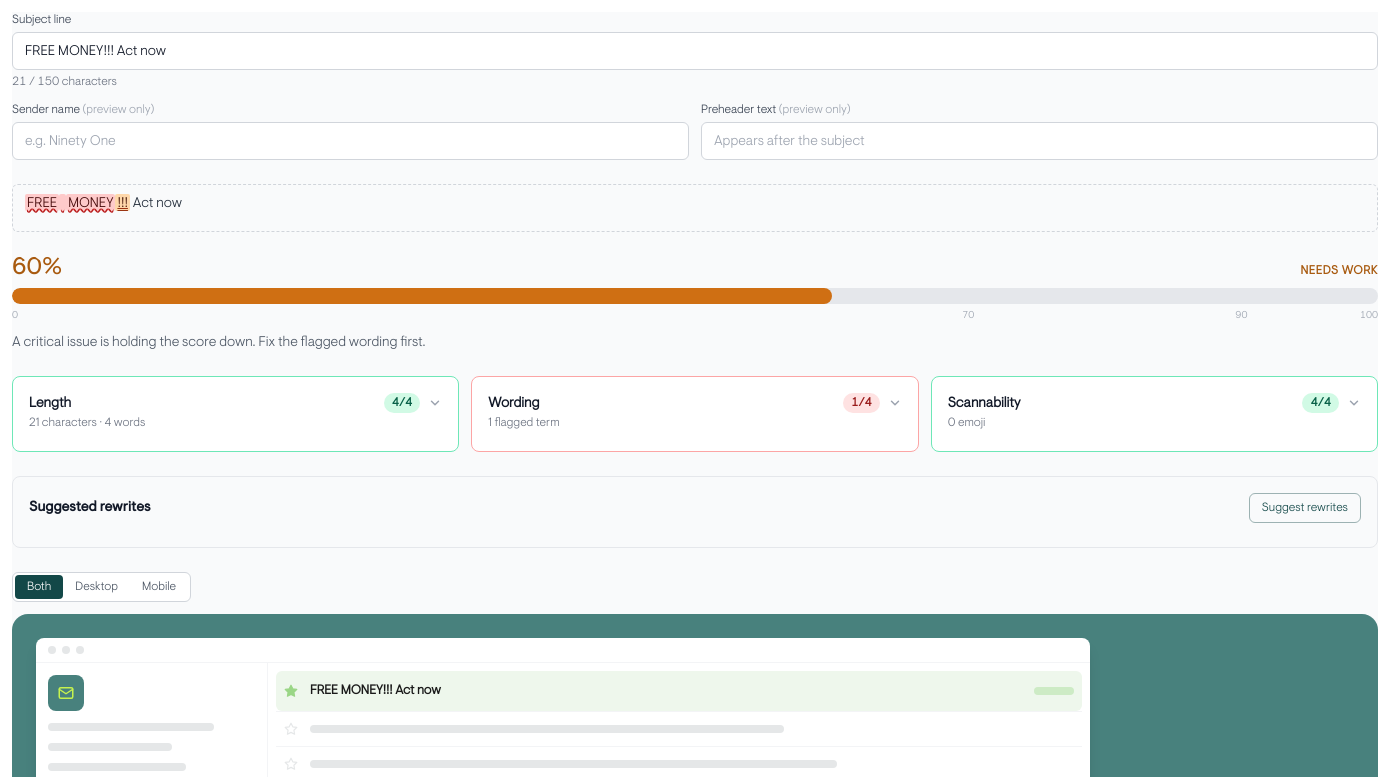
Test case: suggestions on › reports a failing provider and can be retried
Click the button "Suggest rewrites": (1305, 508) [1249,493,1361,523]
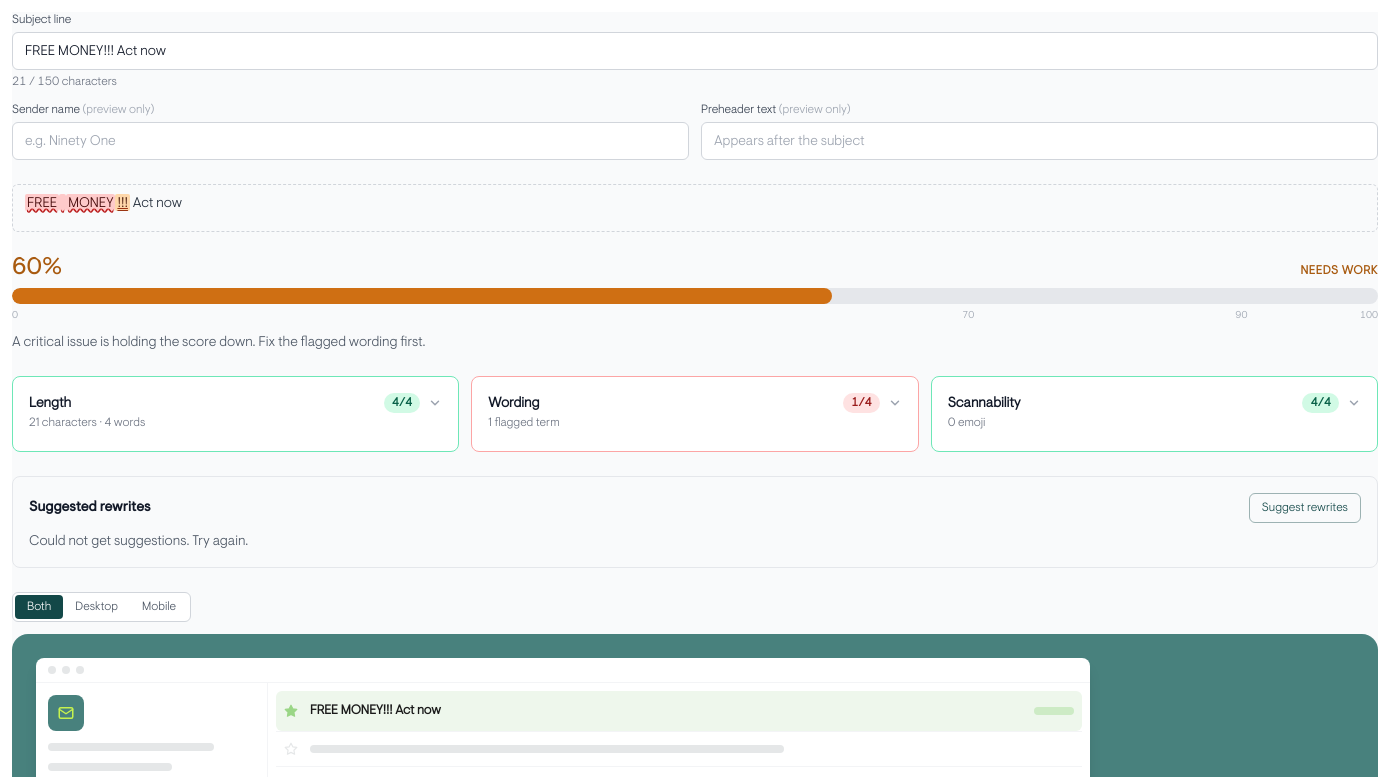
Expected: the message reads "Could not get suggestions. Try again.", [29,532,248,549]
Click the button "Suggest rewrites": (1305, 508) [1249,493,1361,523]
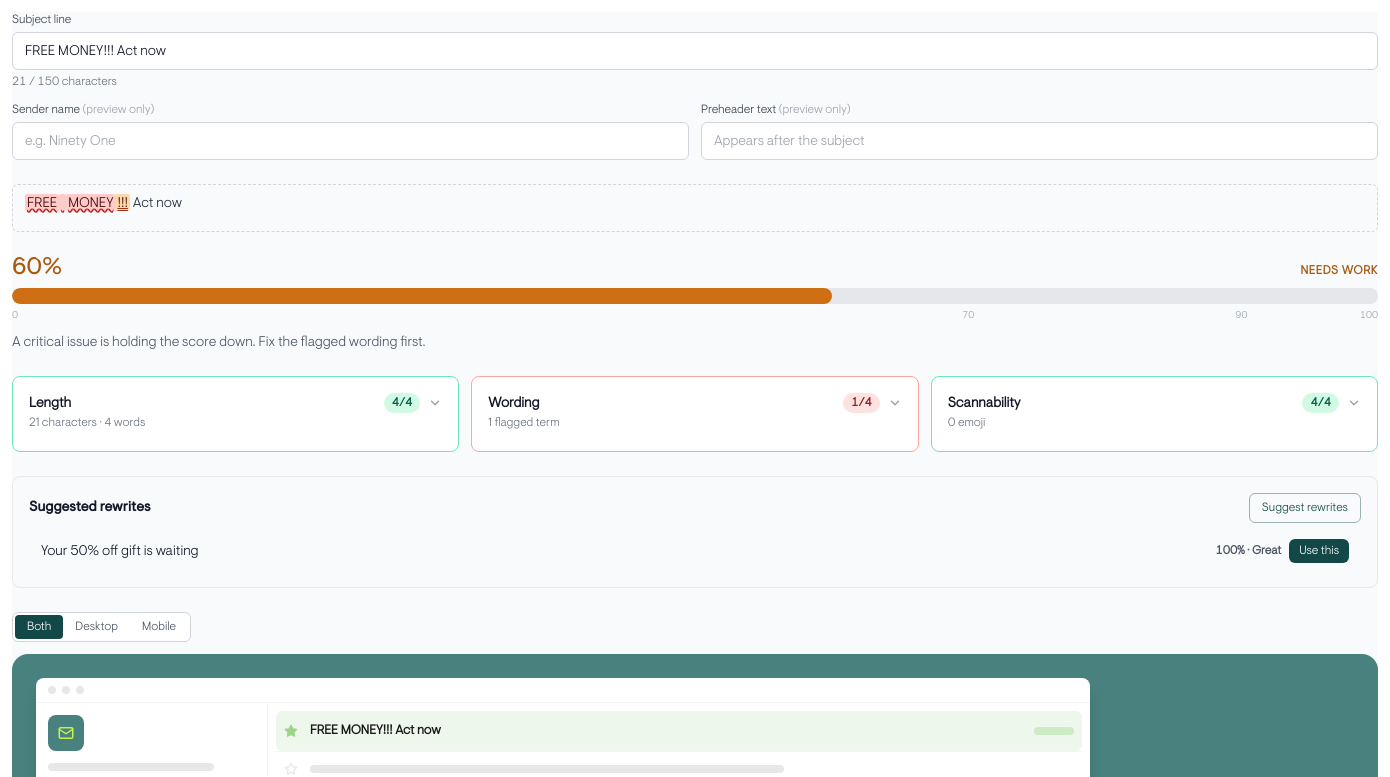
Expected: the text "Your 50% off gift is waiting" is shown, [41,541,198,561]
